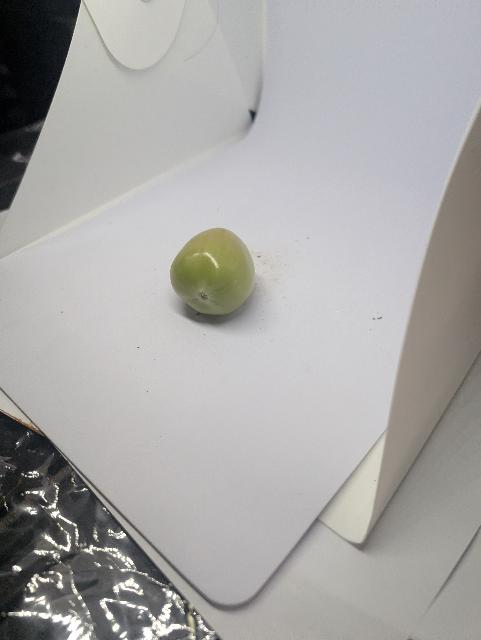green: (146, 214, 275, 332)
